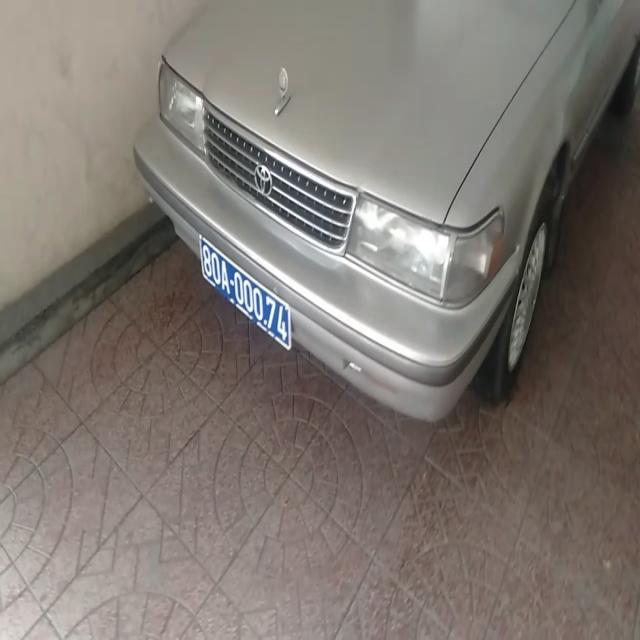bien_xanh: (197, 234, 294, 368)
